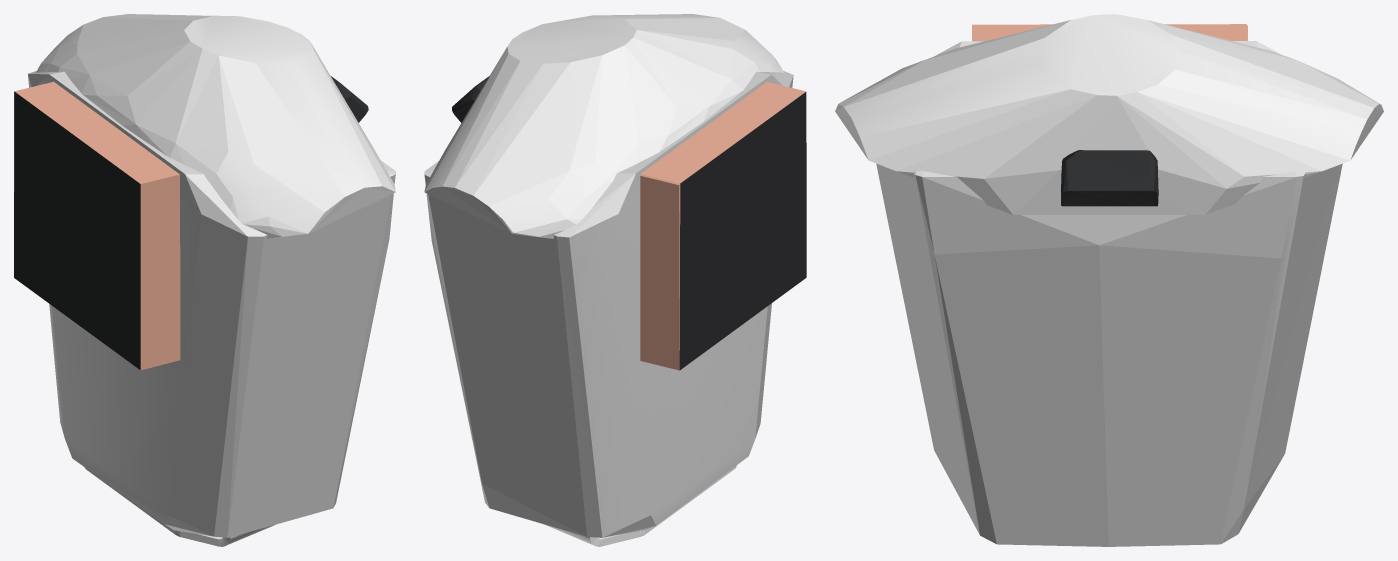
File: torso_collider_no_cone.dae
The picture shows the model from 3 angles, left to right: view 1: azimuth 30°, elevation 25°; view 2: azimuth 150°, elevation 25°; view 3: azimuth 270°, elevation 25°; orthographic projection. The views are drawn at different scales.
Parts seen in each view (by area): view 1: logo_main_triangle.001, top_shell, Enclosure Tile.008, Object.2190, 606-00021-SR_Back cover_PY074.001; view 2: logo_main_triangle.001, top_shell, Enclosure Tile.008, Object.2190, 606-00021-SR_Back cover_PY074.001; view 3: logo_main_triangle.001, top_shell, 606-00021-SR_Back cover_PY074.001, Enclosure Tile.008.
Boxes of the visible parts, left/top/right/bottom form: logo_main_triangle.001: left=28, top=70, right=395, bottom=537; top_shell: left=36, top=14, right=395, bottom=238; Enclosure Tile.008: left=14, top=81, right=180, bottom=370; Object.2190: left=84, top=467, right=275, bottom=546; 606-00021-SR_Back cover_PY074.001: left=331, top=76, right=368, bottom=122; logo_main_triangle.001: left=424, top=71, right=793, bottom=537; top_shell: left=424, top=14, right=784, bottom=238; Enclosure Tile.008: left=640, top=82, right=806, bottom=370; Object.2190: left=544, top=465, right=736, bottom=546; 606-00021-SR_Back cover_PY074.001: left=452, top=76, right=489, bottom=122; logo_main_triangle.001: left=876, top=40, right=1342, bottom=546; top_shell: left=835, top=14, right=1383, bottom=214; 606-00021-SR_Back cover_PY074.001: left=1061, top=150, right=1158, bottom=206; Enclosure Tile.008: left=972, top=24, right=1247, bottom=41.
Bounding box in the file's own units: 0.1971 × 0.3176 × 0.3079.
